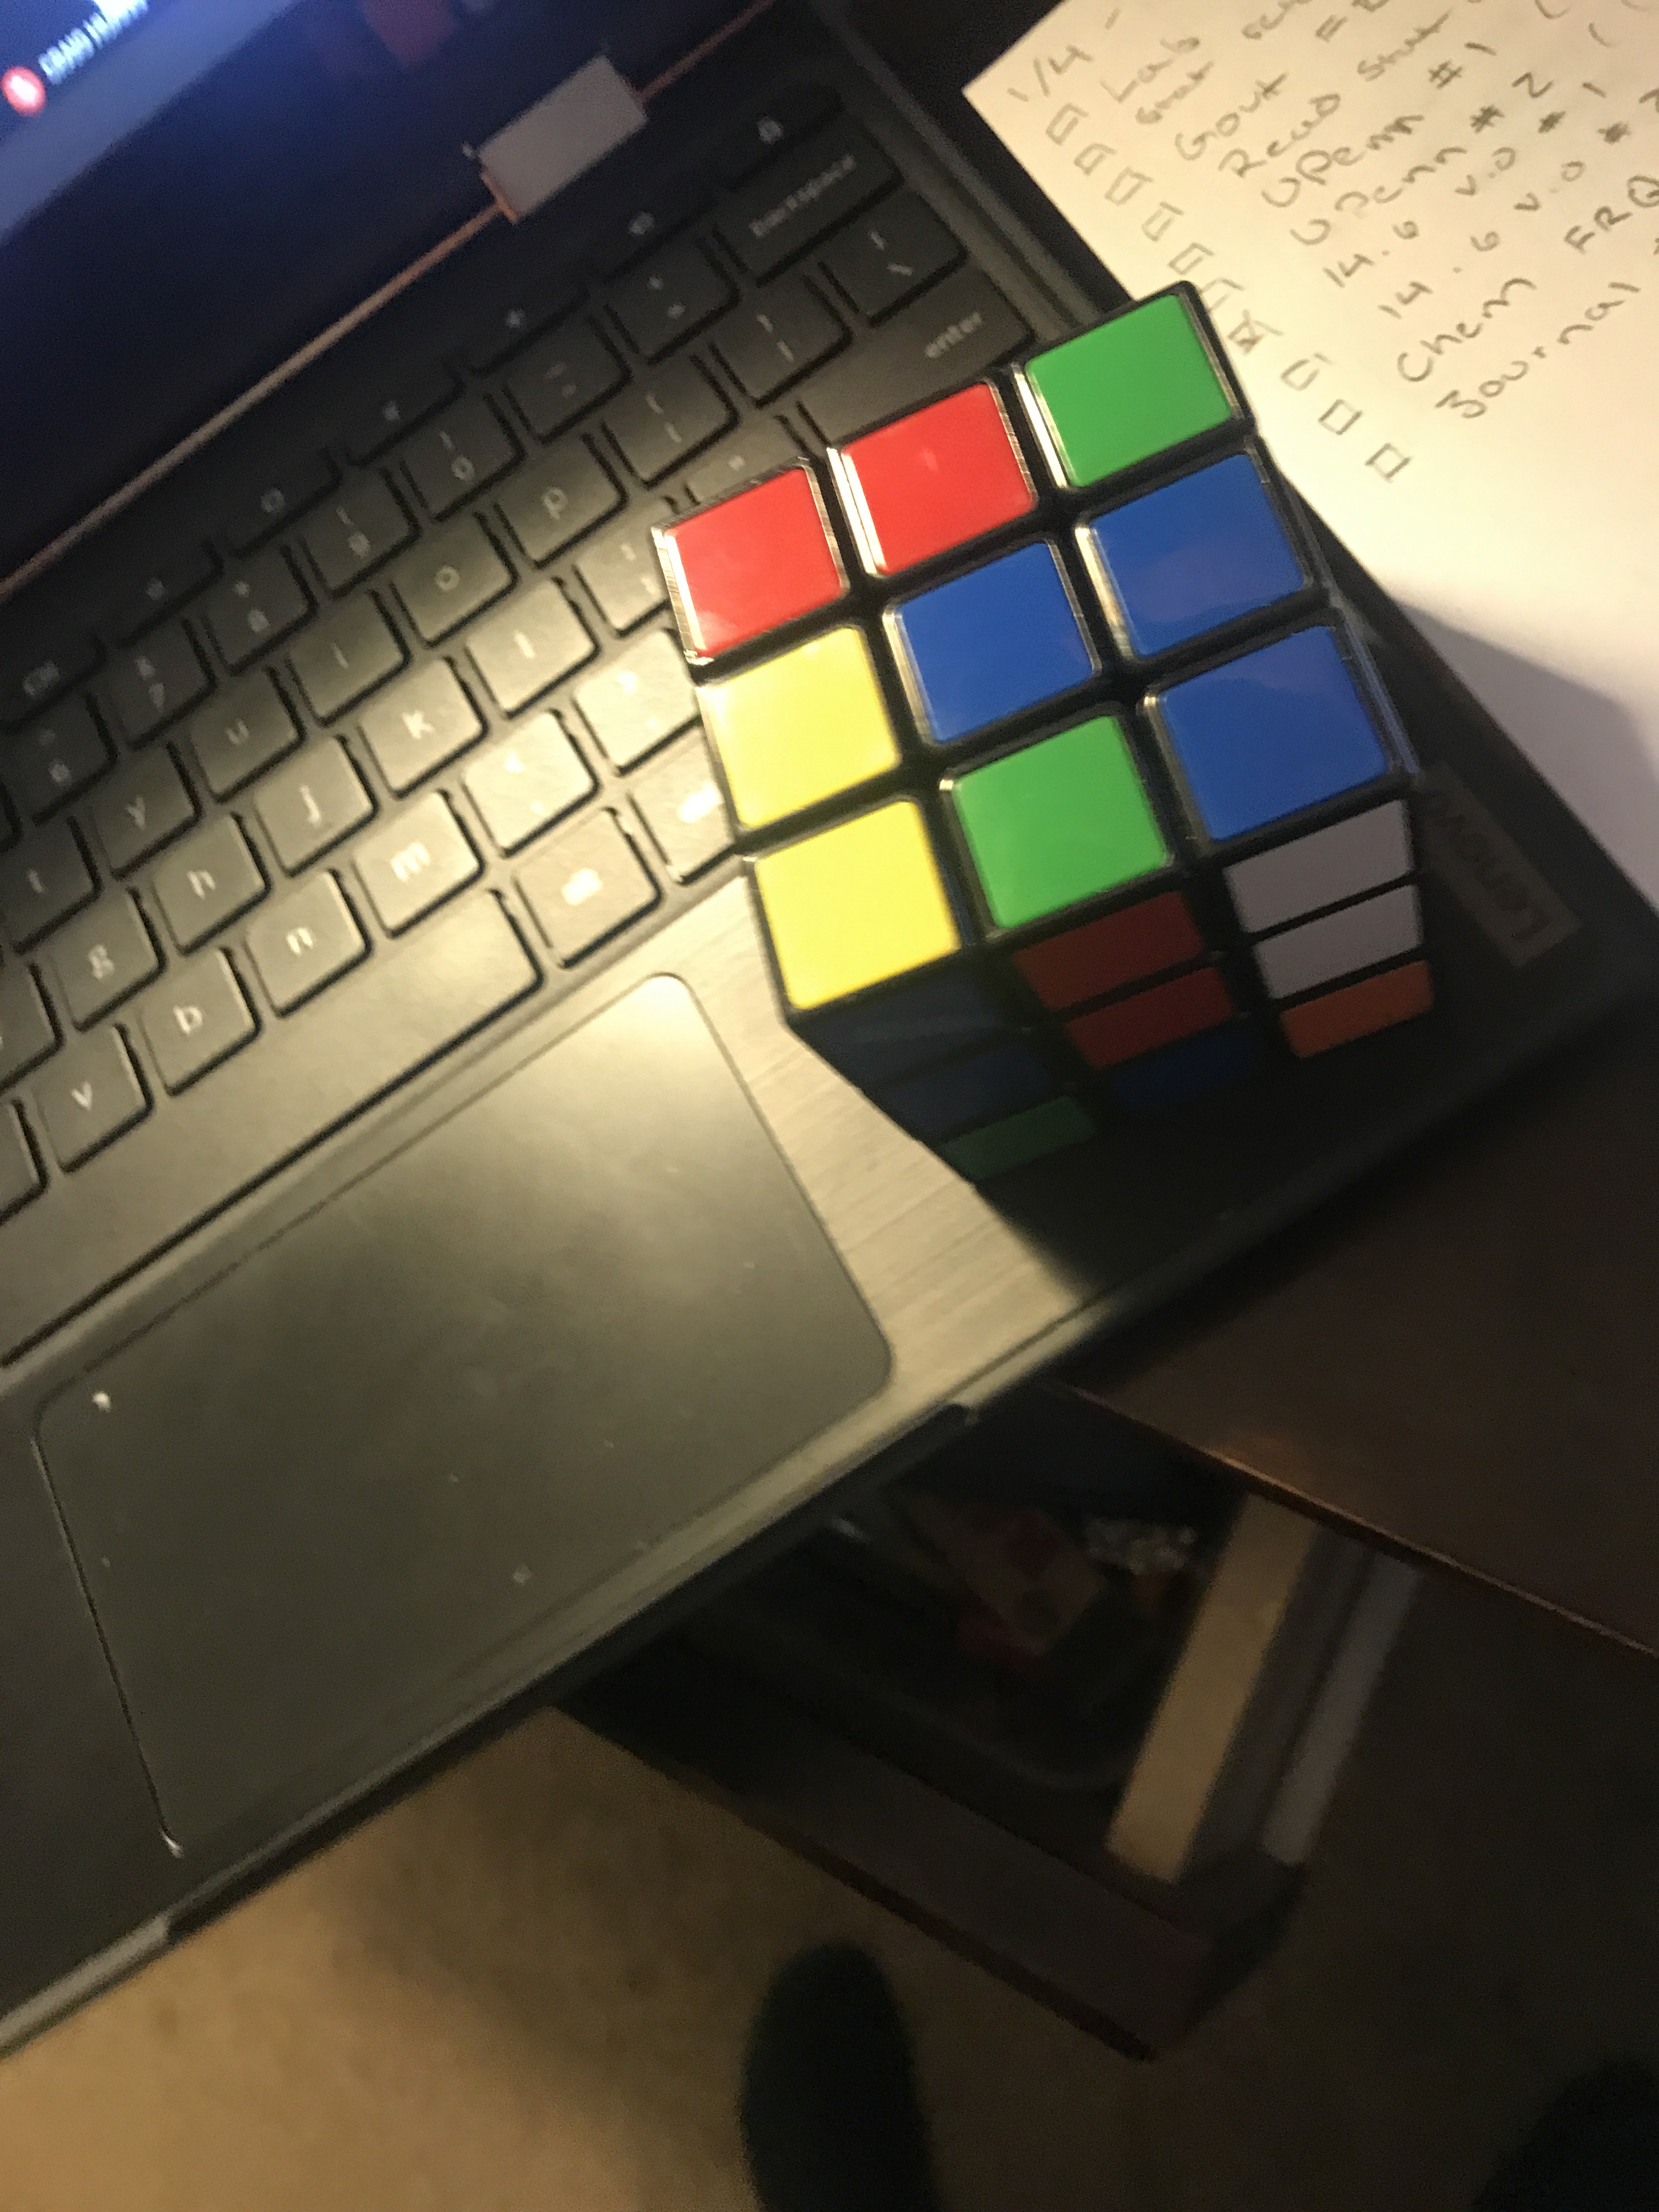rubiks: (643, 287, 1443, 1190)
